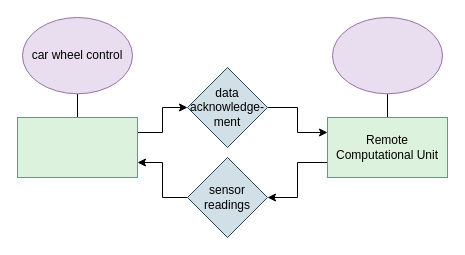
This 465x255 diagram has some shape labels left out. Here are the shapes that lost their labels. From the top down, the centre of each, then its label:
At pixel 387 55: "wrist and hand movement sensing".
At pixel 77 147: "Main Computational Unit".
